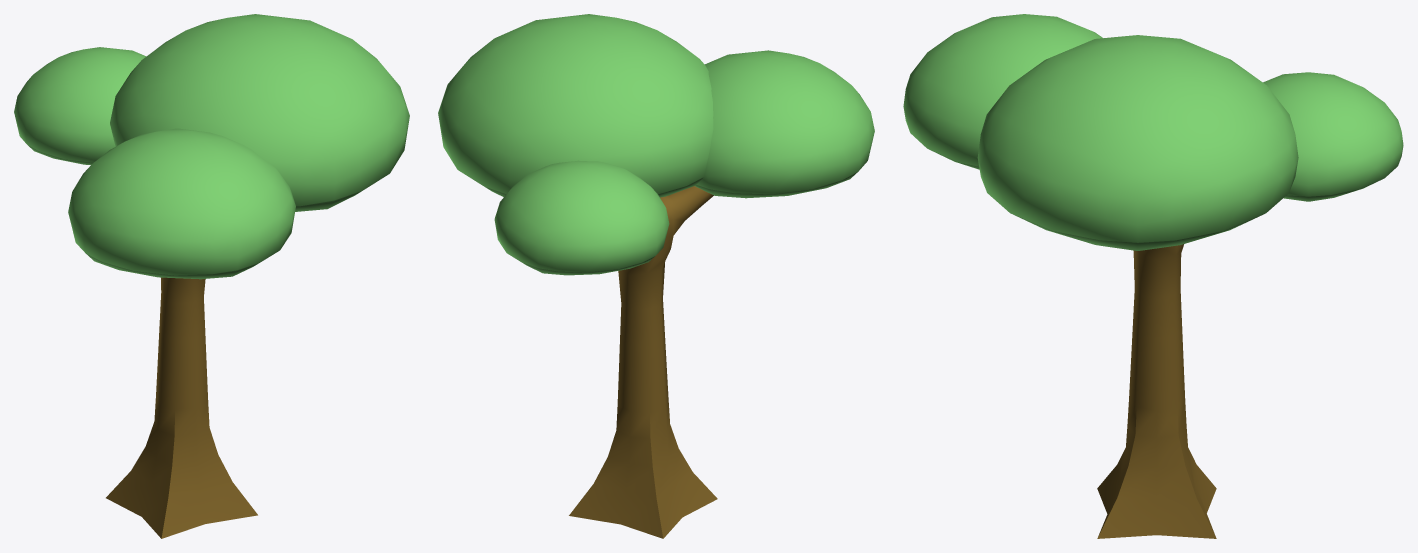
The model's file is tree2.fbx.
The picture shows the model from 3 angles, left to right: view 1: azimuth 30°, elevation 25°; view 2: azimuth 150°, elevation 25°; view 3: azimuth 270°, elevation 25°; orthographic projection. The views are drawn at different scales.
Parts seen in each view (by area): view 1: Tree2Foliage, Tree2; view 2: Tree2Foliage, Tree2; view 3: Tree2Foliage, Tree2.
Boxes of the visible parts, left/top/right/bottom form: Tree2Foliage: left=14, top=14, right=409, bottom=279; Tree2: left=106, top=277, right=257, bottom=538; Tree2Foliage: left=438, top=14, right=874, bottom=275; Tree2: left=569, top=186, right=717, bottom=538; Tree2Foliage: left=903, top=14, right=1403, bottom=250; Tree2: left=1097, top=244, right=1216, bottom=538.
Size of what is drawn, in the model's own units: 4.82 by 5.44 by 5.95.
